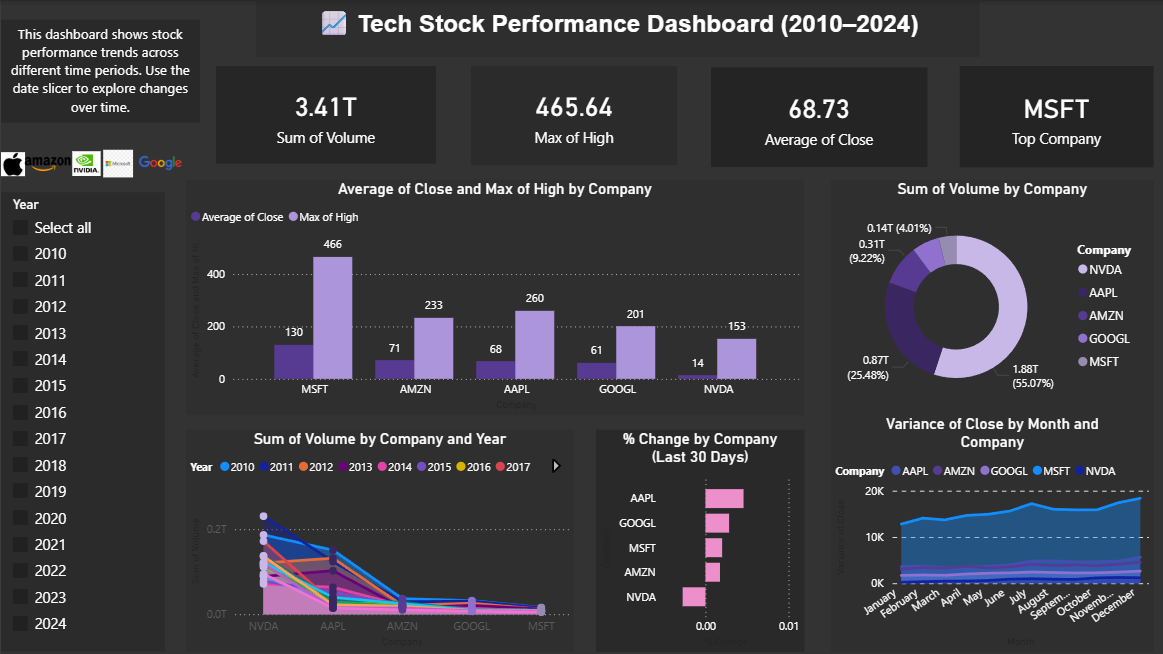

The page's visual inventory and layout, read from the dashboard file:
{"tool":"powerbi","page":{"name":"Page 1","canvas":[1280,720],"ordinal":0},"visuals":[{"type":"card","fields":{"Values":["Max(Stock data.High)"]},"box":[516,71.4,226.4,108.4],"z":0},{"type":"clusteredColumnChart","fields":{"Category":["Stock data.Company"],"Y":["Avg(Stock data.Close)","Max(Stock data.High)"]},"box":[202.9,195.7,678.6,258.6],"z":1000},{"type":"slicer","fields":{"Values":["Stock data.Year"]},"box":[0,209.9,179.8,503.6],"z":2000},{"type":"card","fields":{"Values":["Sum(Stock data.Volume)"]},"box":[236,71.4,241.5,107],"z":3000},{"type":"textbox","box":[279.9,0,794.5,61.7],"z":4000},{"type":"donutChart","fields":{"Category":["Stock data.Company"],"Y":["Sum(Stock data.Volume)"]},"box":[911.4,195.7,354.3,258.6],"z":5000},{"type":"card","fields":{"Values":["Avg(Stock data.Close)"]},"box":[779.4,72.7,237.4,109.8],"z":6000},{"type":"image","box":[0,161.9,26.1,34.3],"z":7000},{"type":"image","box":[26.1,164.7,50.8,28.8],"z":8000},{"type":"image","box":[78.2,163.3,31.6,30.2],"z":9000},{"type":"image","box":[109.8,163.3,37,30.2],"z":10000},{"type":"image","box":[146.8,167.4,56.3,20.6],"z":11000},{"type":"areaChart","fields":{"Category":["Stock data.Date.Variation.Date Hierarchy.Month"],"Series":["Stock data.Company"],"Y":["Variance(Stock data.Close)"]},"box":[911.4,454.3,354.3,260],"z":12000},{"type":"card","fields":{"Values":["Stock data.Top Company"]},"box":[1052.5,71.4,212.7,111.1],"z":13000},{"type":"clusteredBarChart","title":"% Change by Company (Last 30 Days)","fields":{"Category":["Stock data.Company"],"Y":["Stock data.% Change"]},"box":[652.9,470,228.6,244.3],"z":14000},{"type":"textbox","box":[0,20.6,218.2,112.5],"z":15000},{"type":"areaChart","fields":{"Category":["Stock data.Company"],"Y":["Sum(Stock data.Volume)"],"Series":["Stock data.Year"]},"box":[202.9,470,425.7,244.3],"z":16000}]}

Visuals, with their boxes in screenshot pixels (x1, y1, x2, y2), scaled from the page's 1280x720 canvas onto the 1163x654 screenshot:
card - Max(Stock data.High): 469 65 675 163
clusteredColumnChart - Stock data.Company x Avg(Stock data.Close): 184 178 801 413
slicer - Stock data.Year: 0 191 163 648
card - Sum(Stock data.Volume): 214 65 434 162
textbox: 254 0 976 56
donutChart - Stock data.Company x Sum(Stock data.Volume): 828 178 1150 413
card - Avg(Stock data.Close): 708 66 924 166
image: 0 147 24 178
image: 24 150 70 176
image: 71 148 100 176
image: 100 148 133 176
image: 133 152 185 171
areaChart - Stock data.Date.Variation.Date Hierarchy.Month x Stock data.Company: 828 413 1150 649
card - Stock data.Top Company: 956 65 1150 166
"% Change by Company (Last 30 Days)" clusteredBarChart: 593 427 801 649
textbox: 0 19 198 121
areaChart - Stock data.Company x Sum(Stock data.Volume): 184 427 571 649
